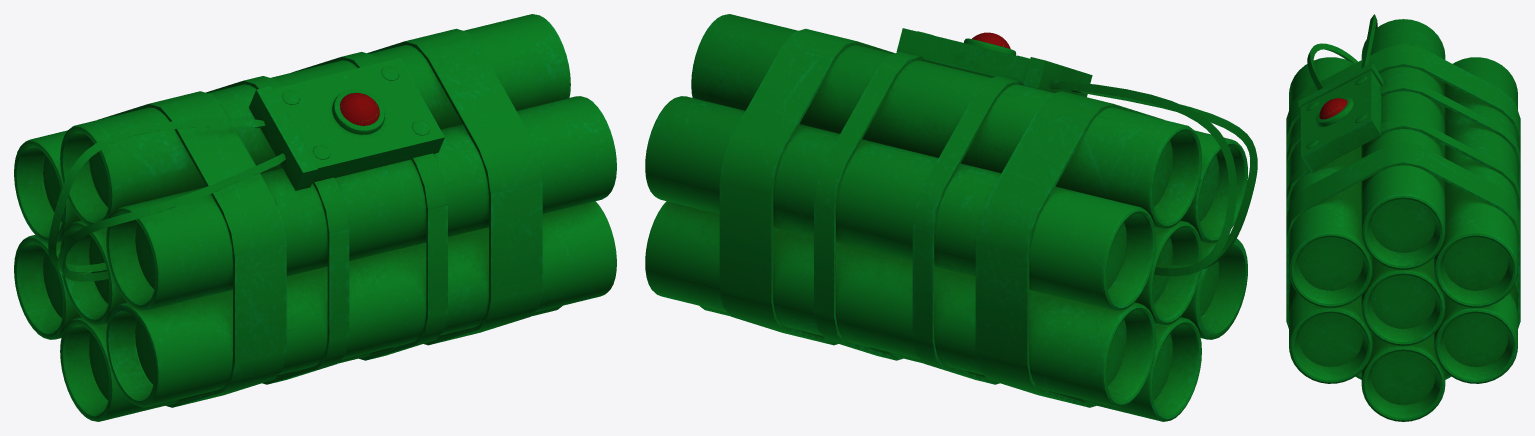
The model's file is RemoteExplosive.fbx.
The picture shows the model from 3 angles, left to right: view 1: azimuth 30°, elevation 25°; view 2: azimuth 150°, elevation 25°; view 3: azimuth 270°, elevation 25°; orthographic projection. The views are drawn at different scales.
Parts seen in each view (by area): view 1: RemoteExplosive; view 2: RemoteExplosive; view 3: RemoteExplosive.
Part boxes in pixels (x1,y1,x2,y2): RemoteExplosive: (14, 14, 616, 421); RemoteExplosive: (645, 14, 1257, 421); RemoteExplosive: (1286, 14, 1520, 421).
Size of the model in its own units: 21.98 by 12.88 by 11.18.
